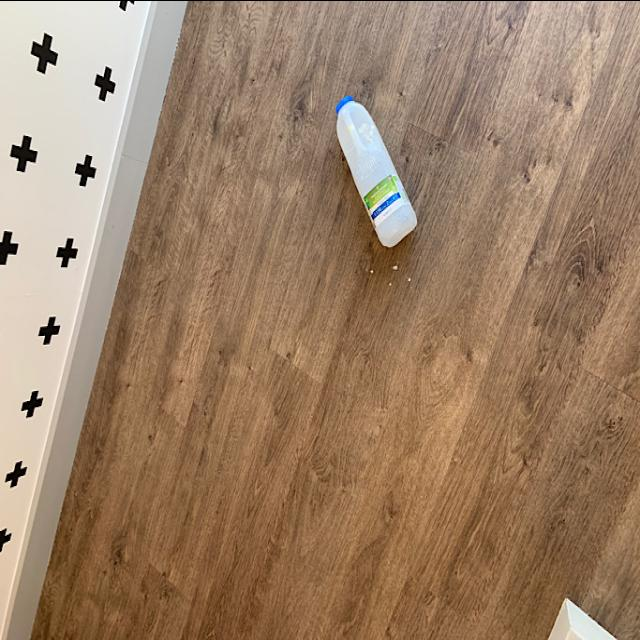HDPEM: (330, 86, 418, 248)
